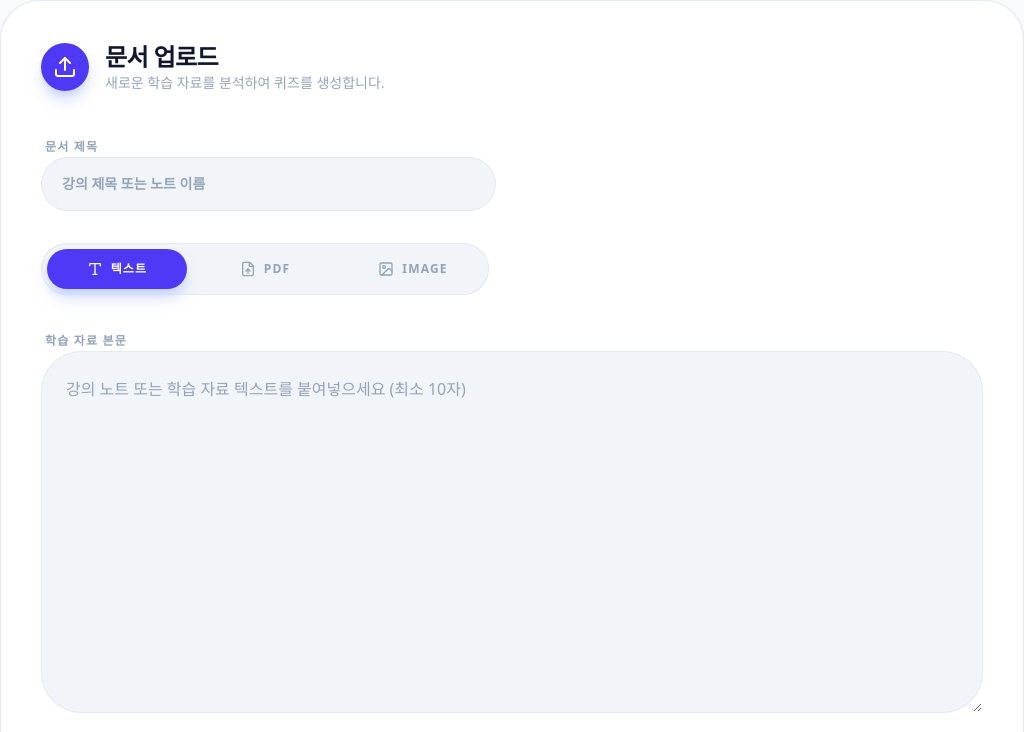
Test case: DocumentUploadForm › switches to PDF mode and hides textarea
Click the button "PDF" at (265, 269), box top-left (195, 249), bottom-right (335, 289)
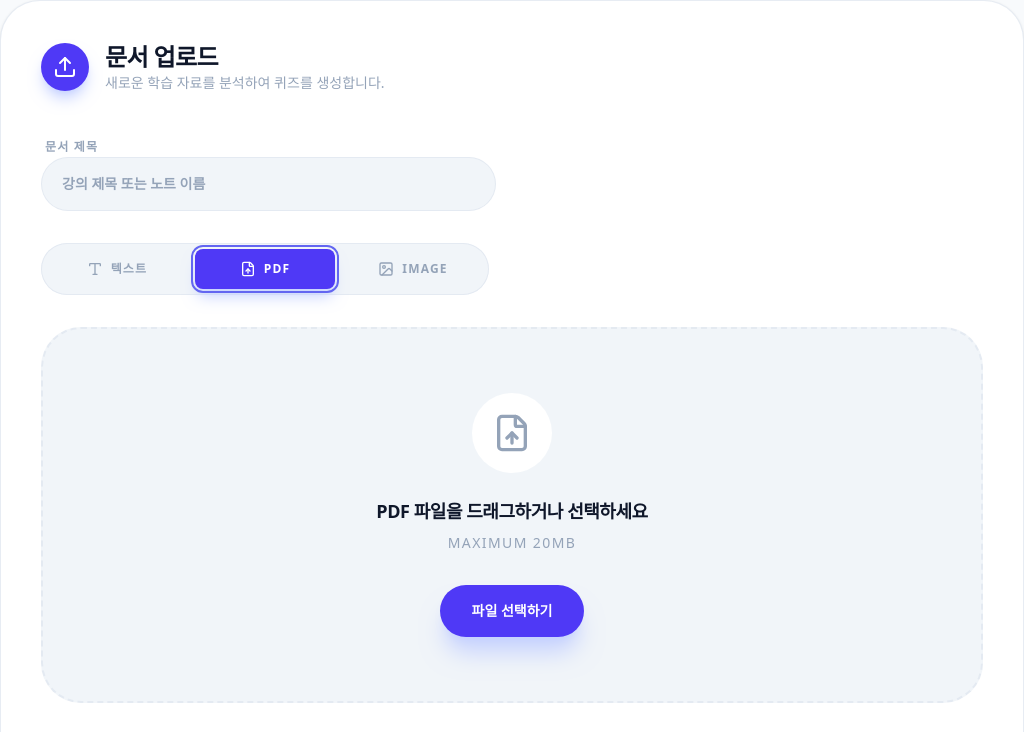
Expected: the text "PDF 파일을 드래그하거나 선택하세요" is shown, top-left (376, 497), bottom-right (648, 525)
Expected: the label labelled "학습 자료 본문" is gone
